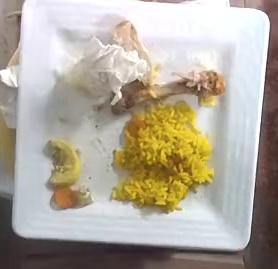rice: (111, 101, 212, 211)
vegetables: (43, 140, 92, 209)
